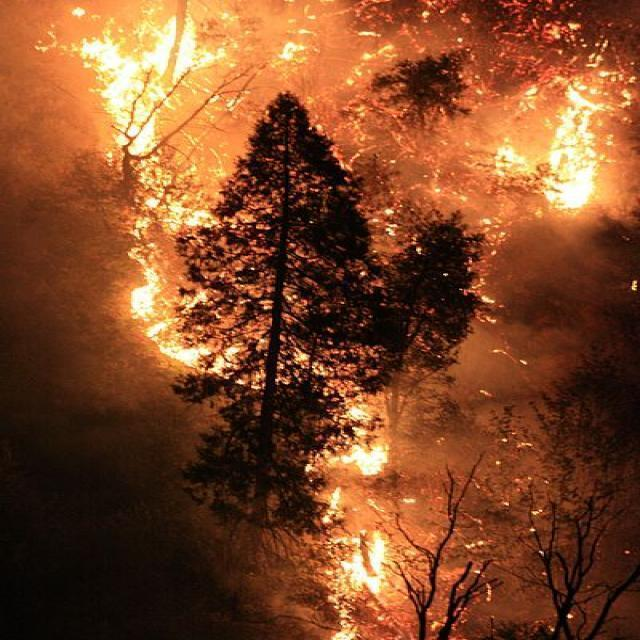tree: (178, 99, 378, 388), (170, 378, 354, 542), (379, 446, 509, 640), (358, 208, 488, 380), (380, 42, 480, 136)
